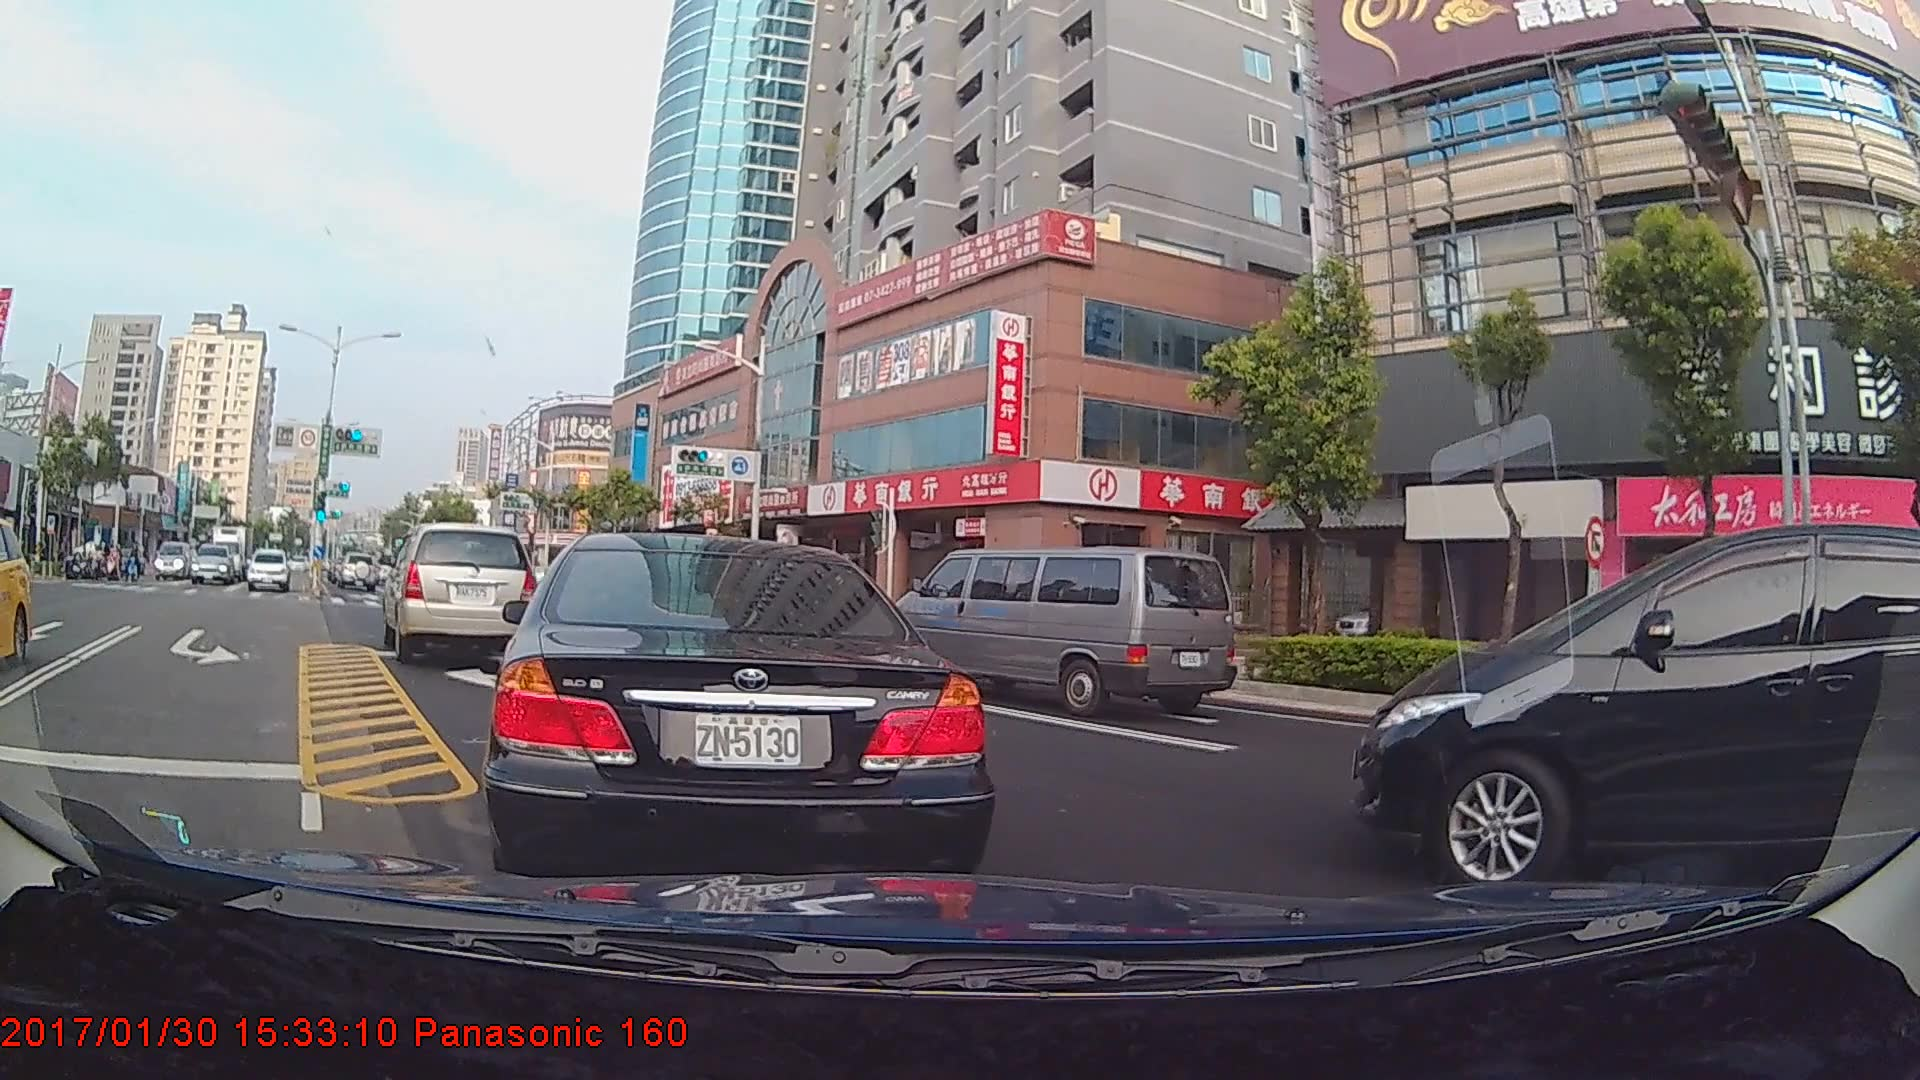vehicle: (1352, 510, 1903, 899), (493, 527, 984, 882), (887, 546, 1233, 723), (385, 524, 542, 665), (0, 520, 32, 665), (207, 521, 256, 567), (190, 542, 240, 585), (247, 547, 291, 593), (154, 541, 199, 582), (330, 553, 378, 589)
